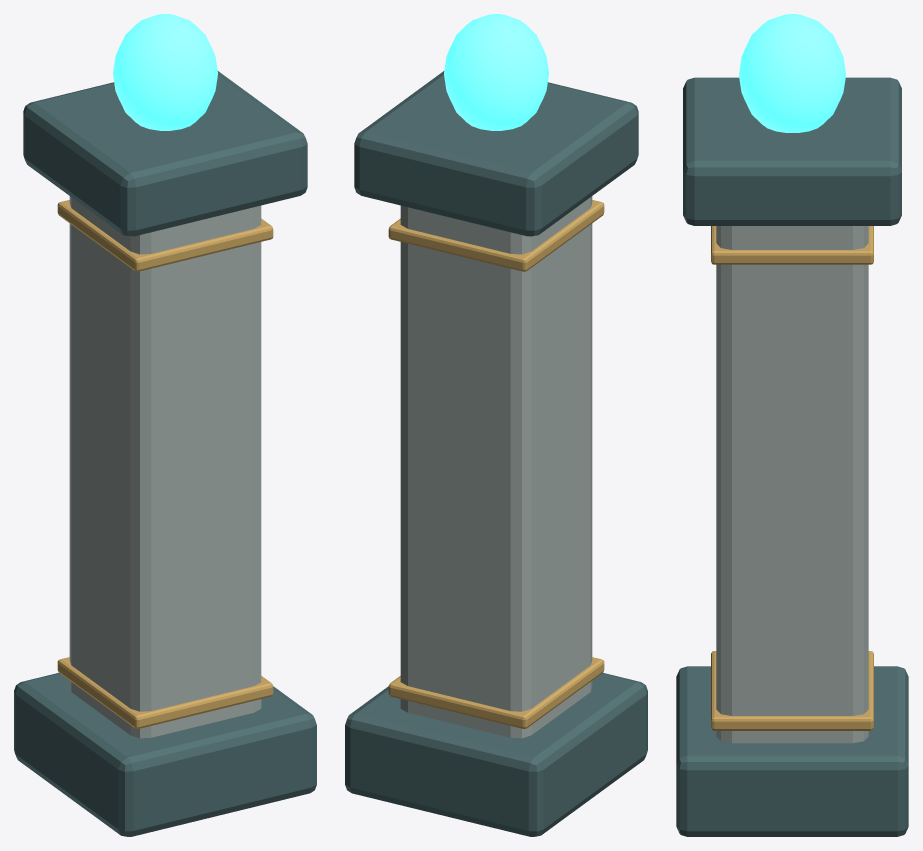
Rendered from pillar.glb.
3 renders of one model, left to right at view 1: azimuth 30°, elevation 25°; view 2: azimuth 150°, elevation 25°; view 3: azimuth 270°, elevation 25°, orthographic.
Parts seen in each view (by area): view 1: pillar; view 2: pillar; view 3: pillar.
Boxes of the visible parts, x1,y1,x2,y2 form: pillar: [14, 14, 316, 836]; pillar: [345, 14, 647, 836]; pillar: [676, 14, 908, 836].
Size of the model in its own units: 0.52 by 1.91 by 0.52.
